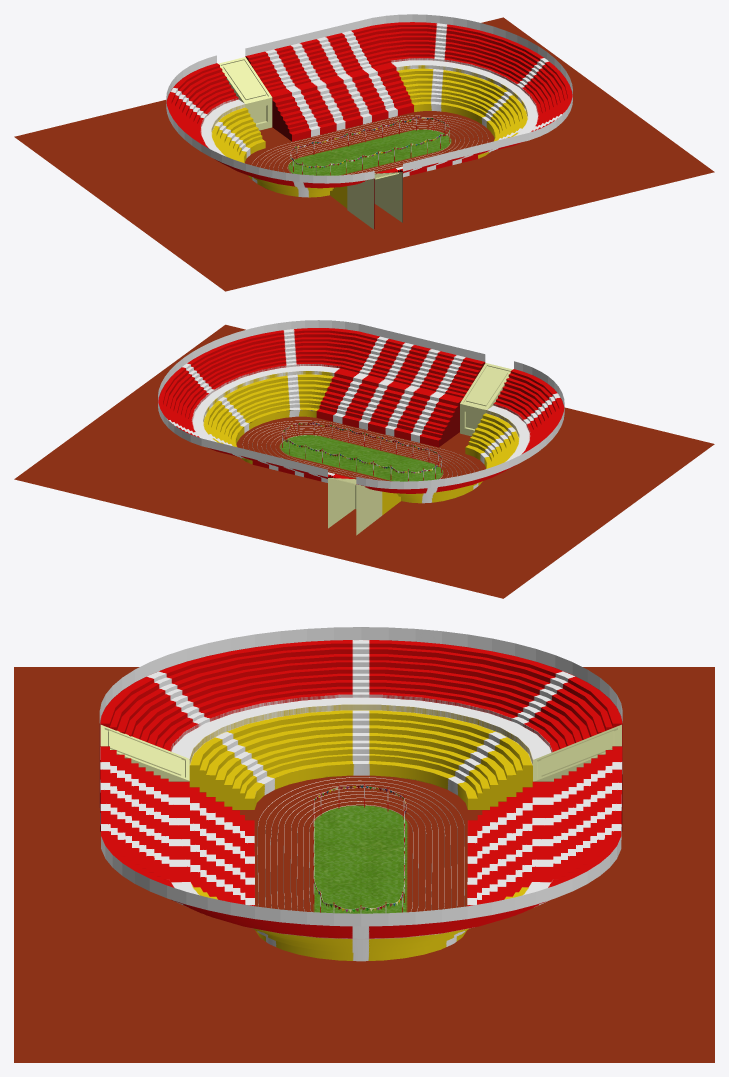
Rendered from race set.fbx.
3 views of the same model, one above another, from view 1: azimuth 30°, elevation 25°; view 2: azimuth 150°, elevation 25°; view 3: azimuth 270°, elevation 25° (orthographic). The views are drawn at different scales.
Visible parts, largest first — view 1: ground1, set1, track, flag; view 2: ground1, set1, track, flag; view 3: ground1, set1, track, flag.
Boxes of the visible parts, x1=… form: ground1: x1=14, y1=17, x2=714, y2=291; set1: x1=166, y1=14, x2=572, y2=229; track: x1=252, y1=115, x2=488, y2=173; flag: x1=290, y1=116, x2=450, y2=175; ground1: x1=14, y1=324, x2=714, y2=598; set1: x1=158, y1=320, x2=564, y2=535; track: x1=242, y1=420, x2=479, y2=479; flag: x1=282, y1=422, x2=442, y2=481; ground1: x1=14, y1=667, x2=714, y2=1062; set1: x1=99, y1=627, x2=622, y2=961; track: x1=257, y1=777, x2=464, y2=911; flag: x1=313, y1=783, x2=406, y2=913.
Size of the model in its own units: 79.76 by 9.32 by 59.68.
